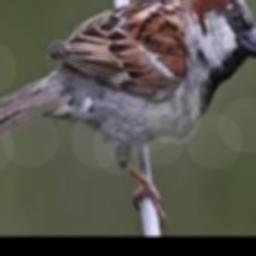Sparrow: (0, 0, 256, 223)
